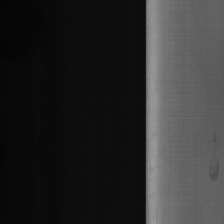oil_spot: (199, 129, 222, 184)
